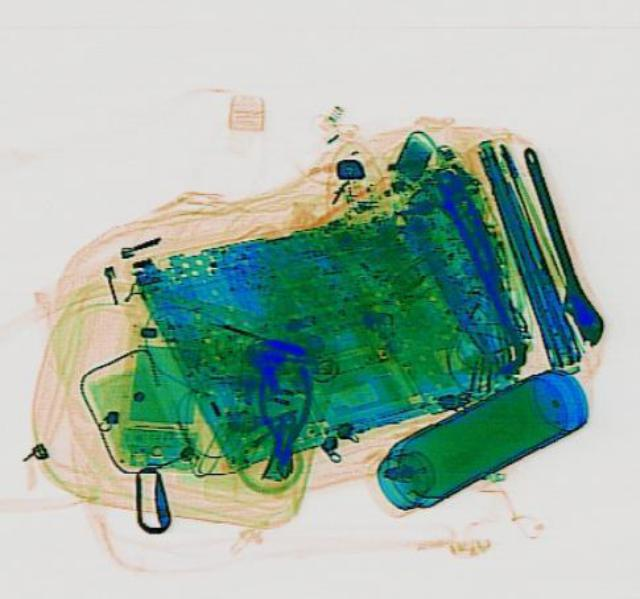Pliers: (433, 165, 515, 316), (252, 361, 312, 475)
Wrench: (506, 142, 606, 349)
